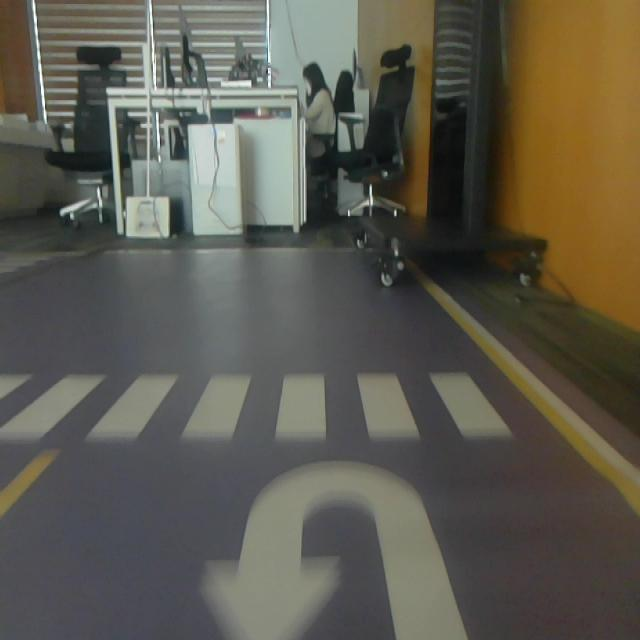left_lane: (0, 451, 65, 519)
right_lane: (394, 249, 640, 515)
